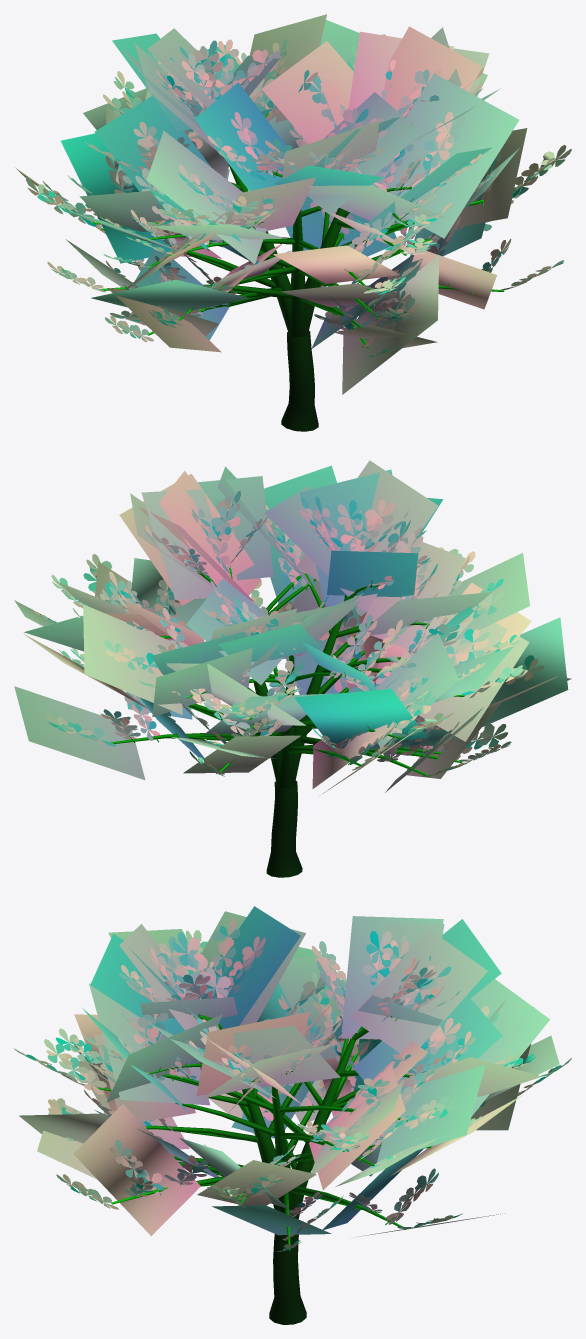
The model's file is bang_2.glb.
The picture shows the model from 3 angles, top to bottom: view 1: azimuth 30°, elevation 25°; view 2: azimuth 150°, elevation 25°; view 3: azimuth 270°, elevation 25°; orthographic projection. The views are drawn at different scales.
Visible parts, largest first — view 1: mid, near; view 2: mid, near; view 3: mid, near.
Boxes of the visible parts, x1,y1,x2,y2 form: mid: [14, 14, 527, 394]; near: [26, 34, 571, 431]; mid: [14, 460, 571, 793]; near: [34, 491, 544, 877]; mid: [19, 906, 559, 1249]; near: [14, 918, 571, 1324].
Size of the model in its own units: 14.72 by 10.6 by 14.5.
